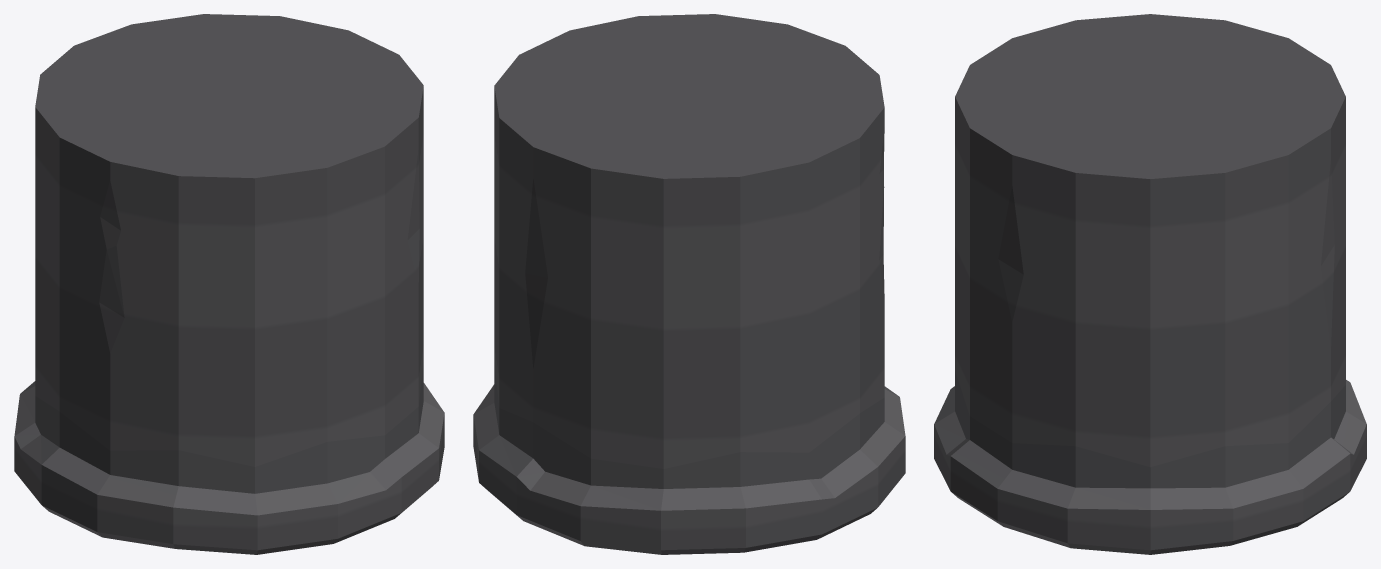
File: SM_Bld_Castle_Tower_Round_01_Lite.gltf
3 renders of one model, left to right at view 1: azimuth 30°, elevation 25°; view 2: azimuth 150°, elevation 25°; view 3: azimuth 270°, elevation 25°, orthographic.
Visible parts, largest first — view 1: SM_Bld_Castle_Tower_Round_01_Lite; view 2: SM_Bld_Castle_Tower_Round_01_Lite; view 3: SM_Bld_Castle_Tower_Round_01_Lite.
Part boxes in pixels (left/top/right/bottom): SM_Bld_Castle_Tower_Round_01_Lite: left=14, top=14, right=444, bottom=554; SM_Bld_Castle_Tower_Round_01_Lite: left=473, top=14, right=905, bottom=554; SM_Bld_Castle_Tower_Round_01_Lite: left=934, top=14, right=1366, bottom=554.
Bounding box in the file's own units: 3.17 × 3 × 3.17.
1 material, 1 textured.
